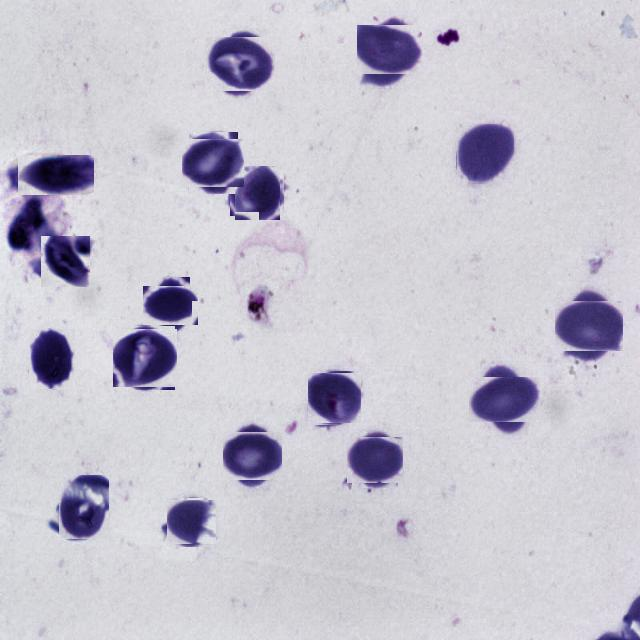red blood cell: (209, 32, 271, 94), (115, 327, 176, 389), (456, 124, 514, 183), (560, 296, 618, 355), (58, 475, 109, 540), (476, 371, 534, 428), (362, 21, 418, 78), (18, 155, 94, 195), (186, 136, 241, 190), (225, 429, 279, 483), (29, 329, 75, 390), (349, 434, 401, 486), (308, 372, 360, 424), (41, 236, 91, 287), (232, 168, 282, 218), (168, 499, 215, 546), (147, 282, 194, 328)
